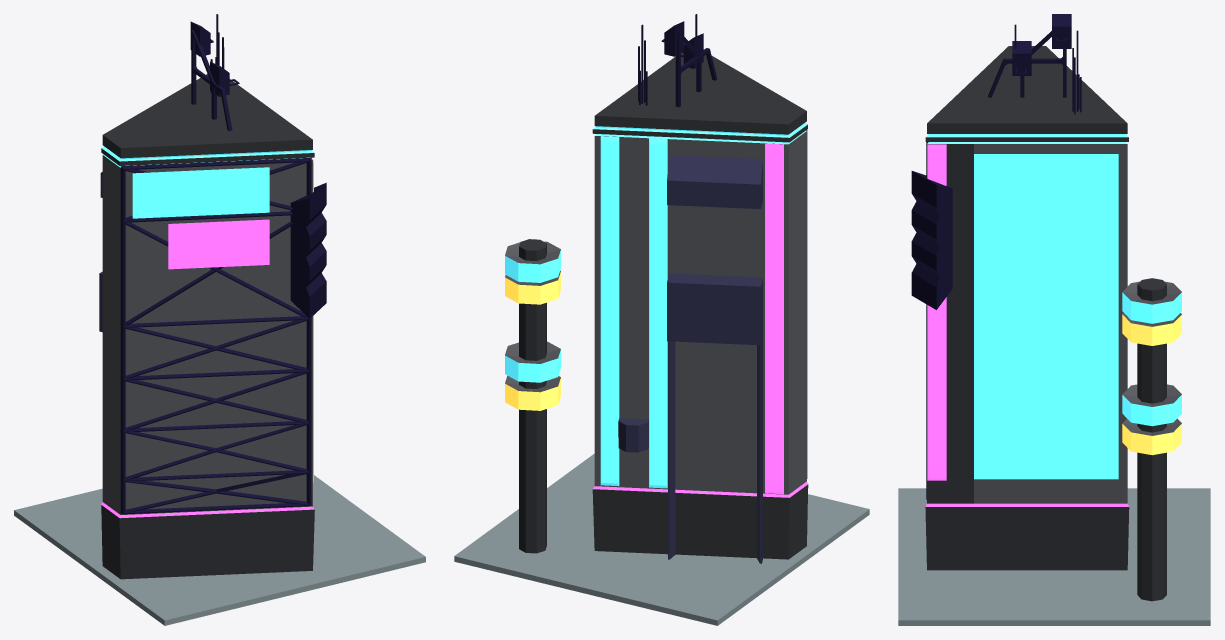
The model's file is CityHouse3.fbx.
3 views of the same model, side by side, from view 1: azimuth 30°, elevation 25°; view 2: azimuth 150°, elevation 25°; view 3: azimuth 270°, elevation 25° (orthographic). The views are drawn at different scales.
Visible parts, largest first — view 1: Cube.654, Road.022; view 2: Cube.654, Road.022, Cylinder.023; view 3: Cube.654, Road.022, Cylinder.023.
Part boxes in pixels (bbox=[...]): Cube.654: bbox=[99, 14, 326, 579]; Road.022: bbox=[14, 475, 425, 625]; Cube.654: bbox=[592, 14, 808, 563]; Road.022: bbox=[454, 453, 869, 625]; Cylinder.023: bbox=[505, 239, 560, 553]; Cube.654: bbox=[911, 14, 1129, 570]; Road.022: bbox=[898, 488, 1210, 625]; Cylinder.023: bbox=[1122, 278, 1181, 601].
Bounding box in the file's own units: 400 × 756 × 400.
